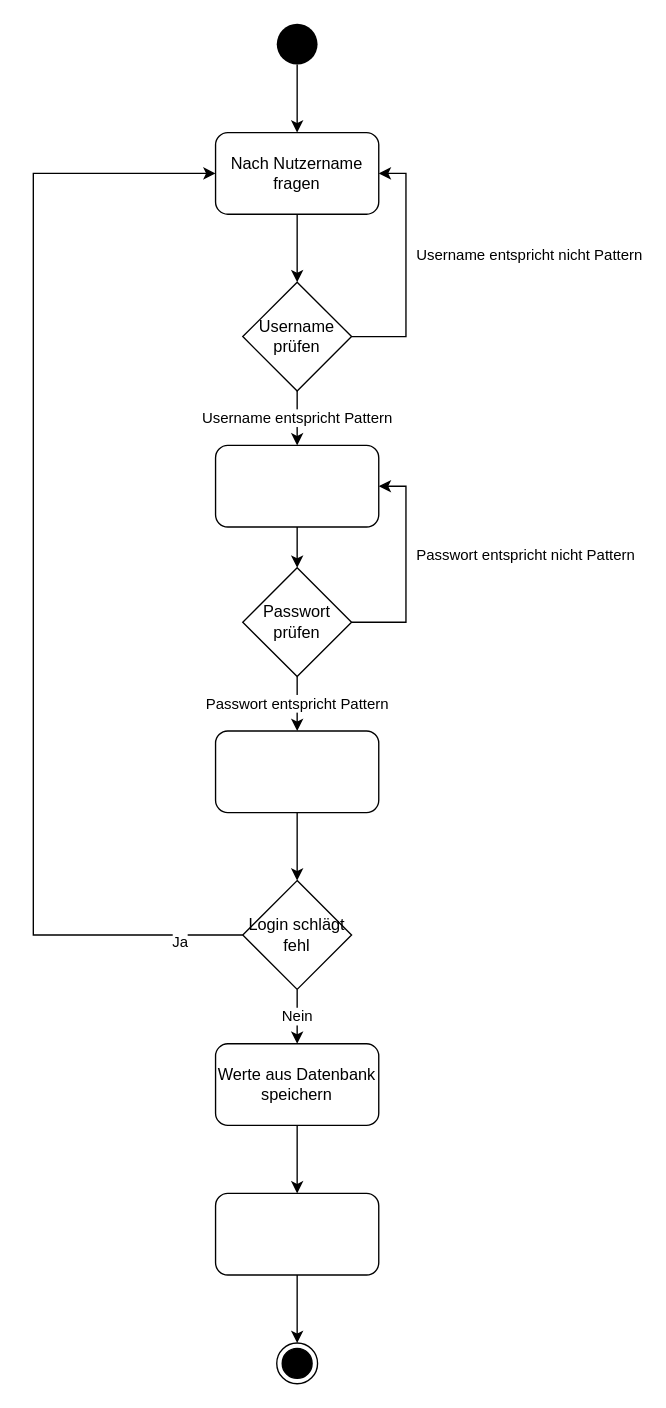
Some shapes in this 666 by 1408 pixel diagram are drawn without their labels. Each missing label, with the centre of its shape:
Angemeldeten Benutzer zurückgeben: [296,1233]
Nach Passwort fragen: [296,485]
User einloggen: [296,771]
